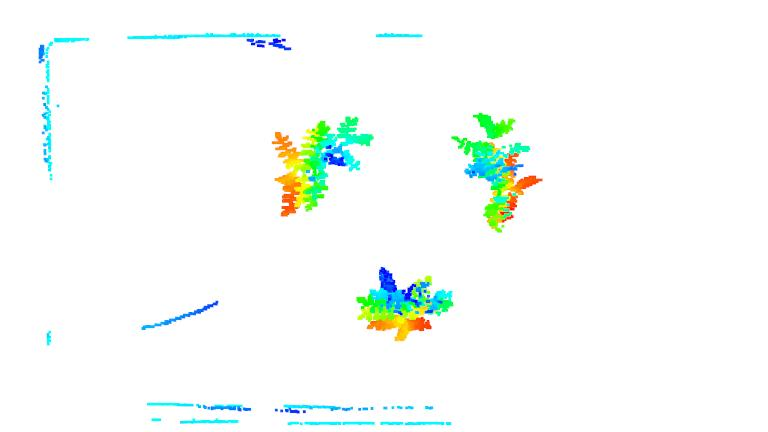chickpea: (449, 110, 544, 233), (273, 113, 376, 219), (352, 268, 457, 342)
